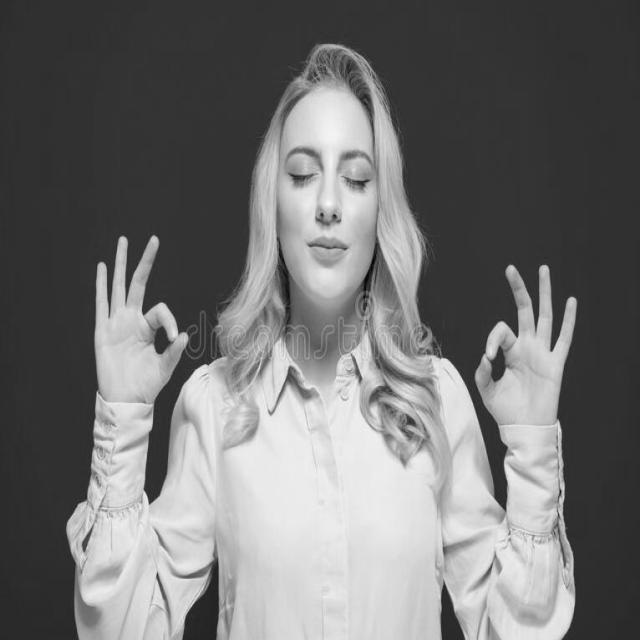perfect: (472, 260, 580, 439), (90, 230, 192, 411)
